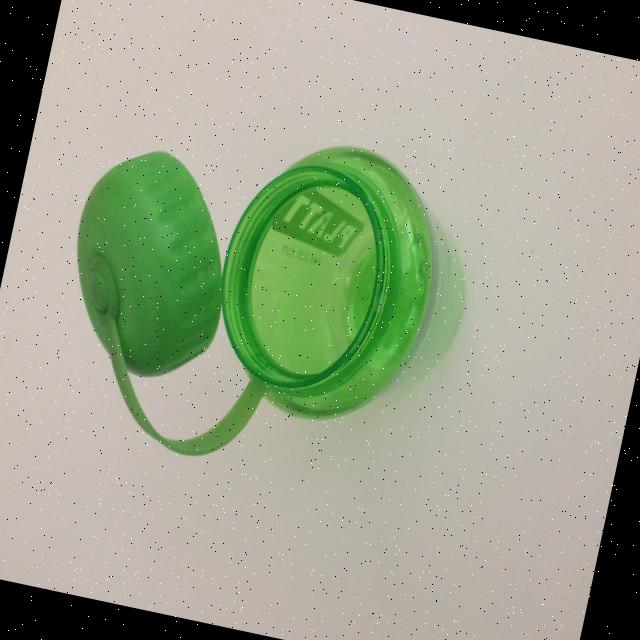plastic: (24, 74, 544, 550)
